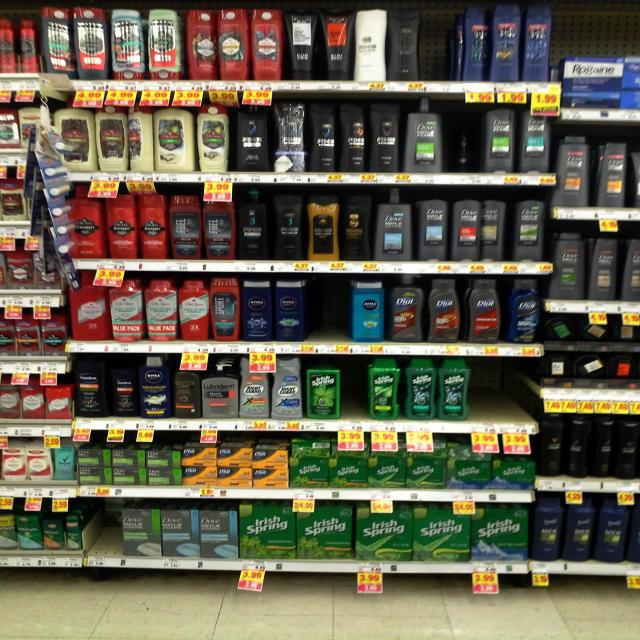empty_space: (477, 362, 517, 418), (315, 280, 344, 339), (428, 14, 448, 81), (342, 365, 366, 413)
